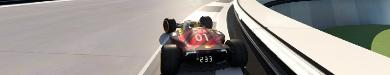Car: (159, 15, 248, 74)
obstacles-Borders: (231, 0, 389, 74)
